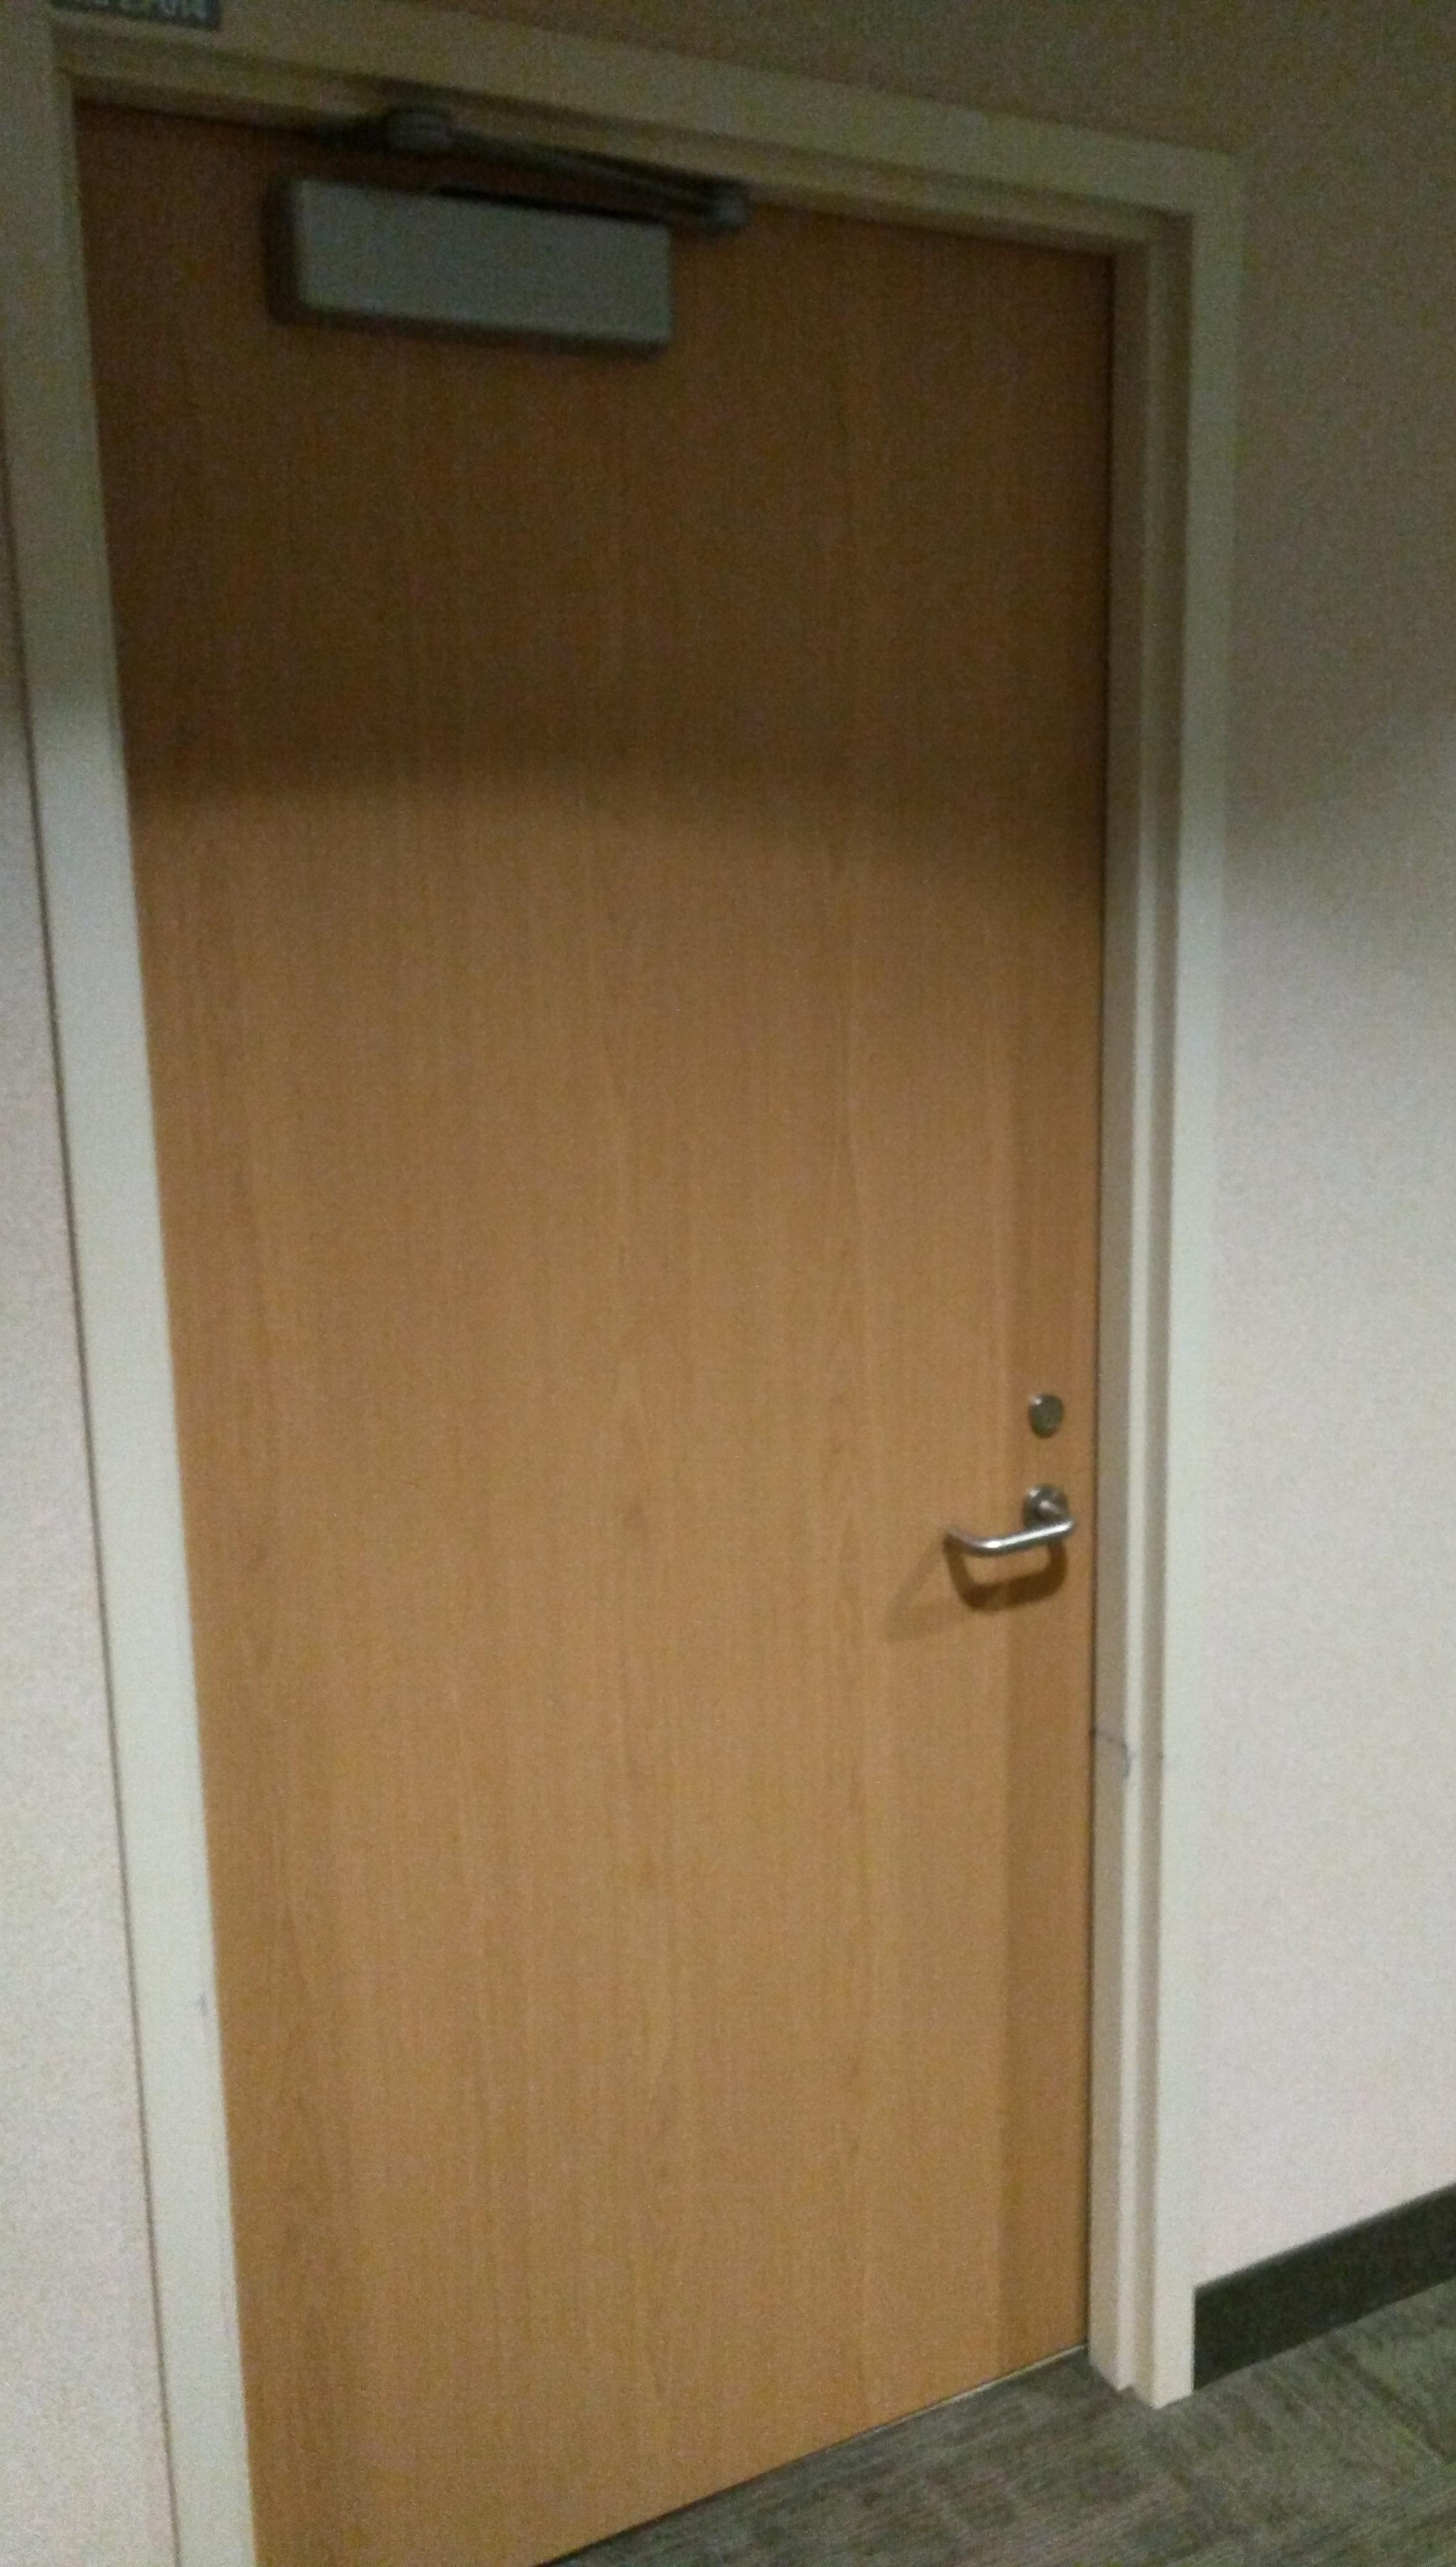door: (46, 19, 1148, 2445)
